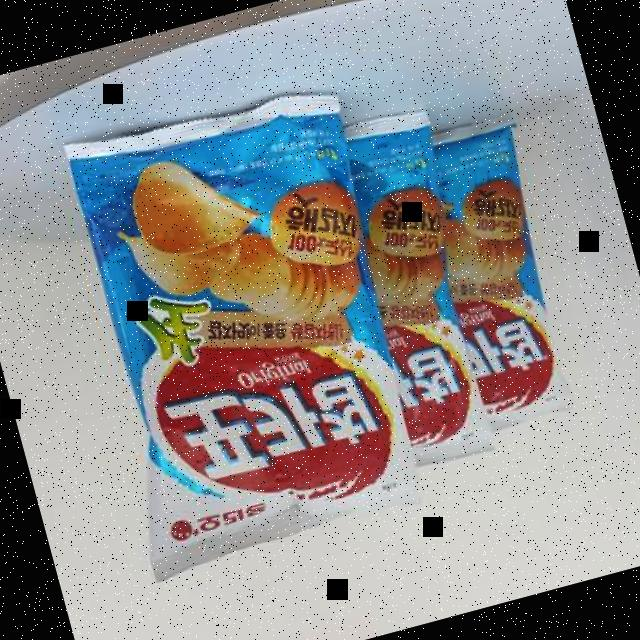snack_bag: (12, 0, 640, 612)
